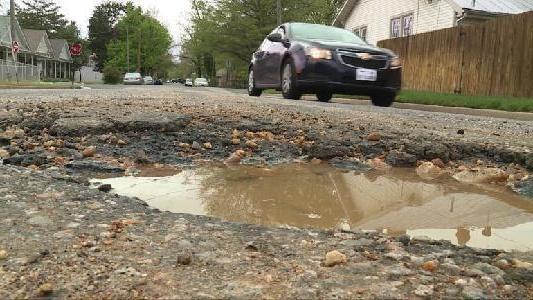pothole: (0, 107, 532, 257)
